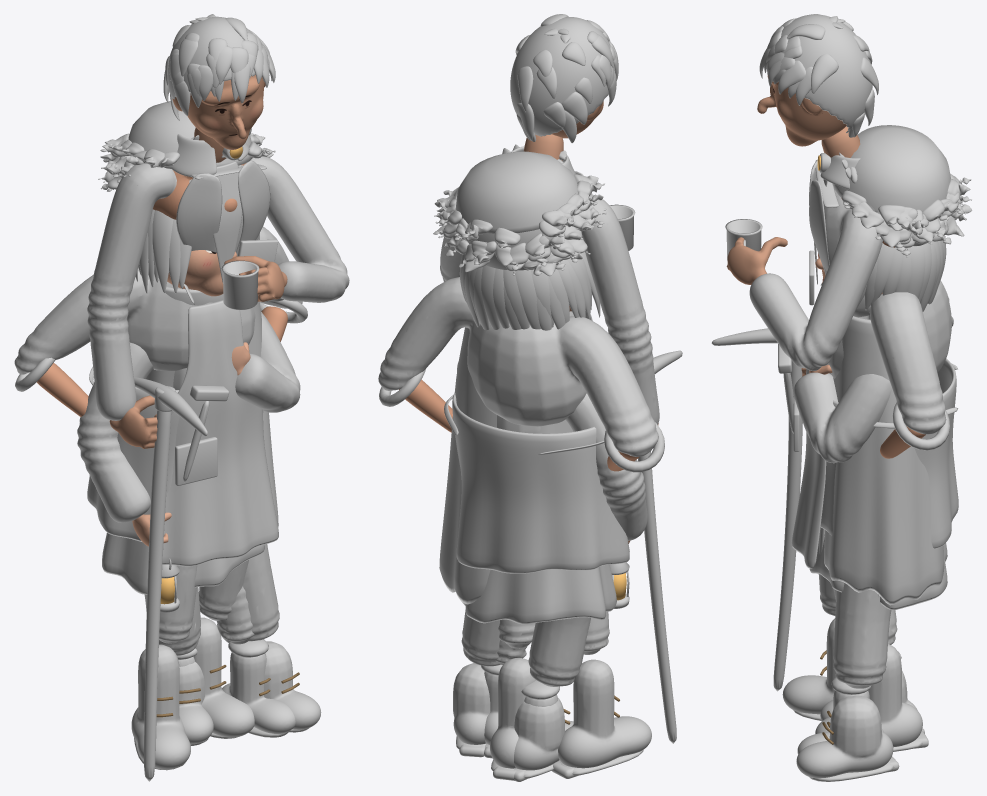
Rendered from Workers.fbx.
The picture shows the model from 3 angles, left to right: view 1: azimuth 30°, elevation 25°; view 2: azimuth 150°, elevation 25°; view 3: azimuth 270°, elevation 25°; orthographic projection.
Visible parts, largest first — view 1: Worker_Round_Apron, Worker_Long_Top, Worker_Small_Top, Worker_Round_Top, Worker_Long_Hair, Worker_Long_PickHandle, Worker_Long_Boot0, Worker_Long_Skin, Worker_Long_Trousers, Worker_Long_Boot1, Worker_Small_Skirt, Worker_Round_Trousers (+23 smaller); view 2: Worker_Round_Top, Worker_Round_Skirt, Worker_Long_Hair, Worker_Round_Hair, Worker_Long_Top, Worker_Small_Hair, Worker_Round_Cap, Worker_Small_Skirt, Worker_Long_Boot0, Worker_Long_Skirt, Worker_Round_Trousers, Worker_Small_Top (+11 smaller); view 3: Worker_Long_Skirt, Worker_Long_Top, Worker_Long_Hair, Worker_Round_Top, Worker_Round_Cap, Worker_Small_Top, Worker_Round_Trousers, Worker_Round_Boot1, Worker_Round_Hair, Worker_Round_Skirt, Worker_Small_Hair, Worker_Long_PickHandle (+16 smaller).
Part boxes in pixels (x1,y1,x2,y2): Worker_Round_Apron: [162, 300, 278, 566]; Worker_Long_Top: [87, 156, 349, 420]; Worker_Small_Top: [77, 312, 300, 522]; Worker_Round_Top: [14, 226, 302, 374]; Worker_Long_Hair: [163, 14, 275, 120]; Worker_Long_PickHandle: [144, 410, 171, 781]; Worker_Long_Boot0: [131, 644, 190, 769]; Worker_Long_Skin: [172, 75, 265, 149]; Worker_Long_Trousers: [159, 560, 248, 643]; Worker_Long_Boot1: [193, 617, 254, 737]; Worker_Small_Skirt: [102, 532, 264, 594]; Worker_Round_Trousers: [144, 544, 279, 655]; Worker_Round_Top: [378, 277, 658, 456]; Worker_Round_Skirt: [452, 393, 629, 573]; Worker_Long_Hair: [510, 14, 618, 143]; Worker_Round_Hair: [433, 144, 606, 276]; Worker_Long_Top: [440, 194, 659, 424]; Worker_Small_Hair: [459, 252, 600, 330]; Worker_Round_Cap: [455, 151, 577, 233]; Worker_Small_Skirt: [461, 564, 616, 624]; Worker_Long_Boot0: [558, 659, 651, 768]; Worker_Long_Skirt: [439, 327, 573, 604]; Worker_Round_Trousers: [461, 612, 590, 686]; Worker_Small_Top: [457, 362, 647, 540]; Worker_Long_Skirt: [818, 316, 944, 605]; Worker_Long_Top: [749, 189, 882, 370]; Worker_Long_Hair: [759, 14, 878, 137]; Worker_Round_Top: [826, 280, 951, 434]; Worker_Round_Cap: [832, 125, 950, 212]; Worker_Small_Top: [794, 372, 891, 463]; Worker_Round_Trousers: [833, 583, 897, 688]; Worker_Round_Boot1: [796, 695, 893, 778]; Worker_Round_Hair: [839, 152, 971, 257]; Worker_Round_Skirt: [820, 358, 958, 548]; Worker_Small_Hair: [856, 235, 946, 311]; Worker_Long_PickHandle: [773, 361, 802, 691].
Size of the model in its own units: 0.7623 by 1.88 by 0.6159.
